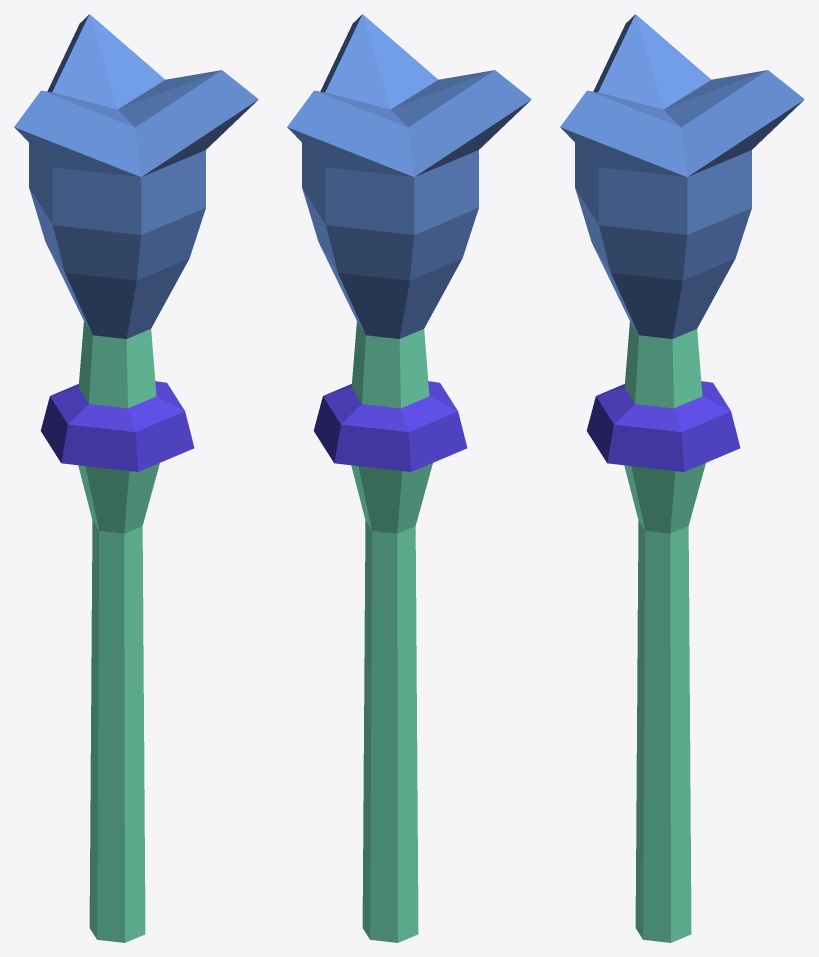
The model's file is torch.fbx.
The picture shows the model from 3 angles, left to right: view 1: azimuth 30°, elevation 25°; view 2: azimuth 150°, elevation 25°; view 3: azimuth 270°, elevation 25°; orthographic projection.
Parts seen in each view (by area): view 1: torch; view 2: torch; view 3: torch.
Part boxes in pixels (<box>): torch: <box>14,14,258,942</box>; torch: <box>287,14,531,942</box>; torch: <box>560,14,804,942</box>.
Bounding box in the file's own units: 30.81 × 121 × 30.81.
